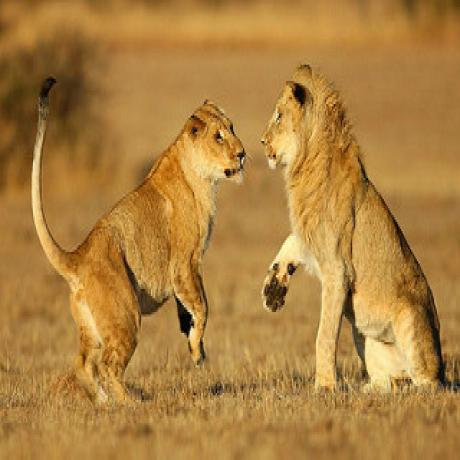Lion: (31, 78, 248, 402), (261, 63, 451, 398)
